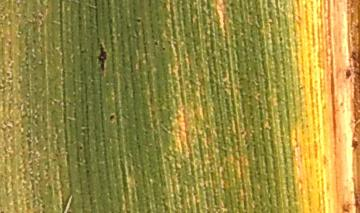tarspot: (95, 42, 108, 72), (107, 112, 117, 122), (134, 16, 142, 25), (78, 49, 86, 56), (152, 39, 159, 47), (78, 143, 84, 152), (85, 168, 92, 175), (161, 45, 167, 52)
